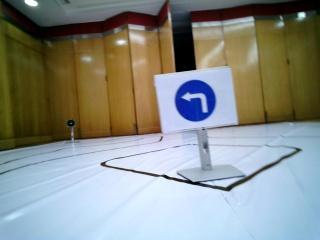left: (163, 79, 231, 124)
